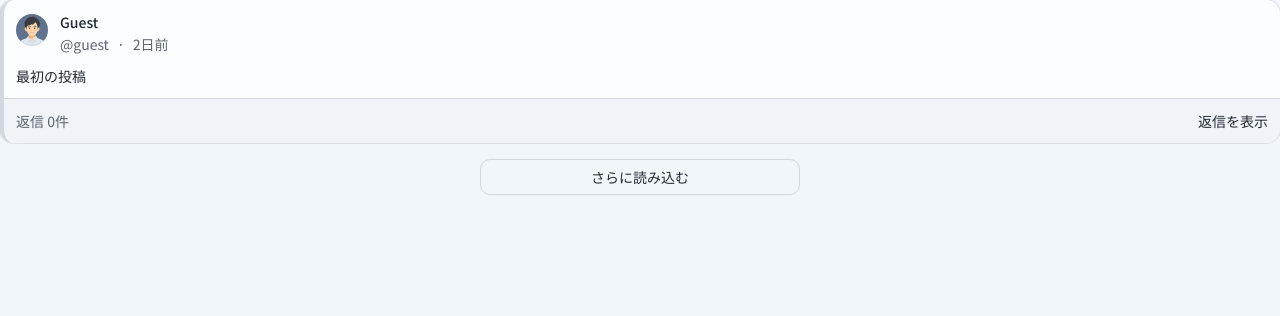
Test: PostList load more › passes the opaque cursor unchanged and appends the next page
Click the button "さらに読み込む": [640, 177] box [480, 159, 800, 195]
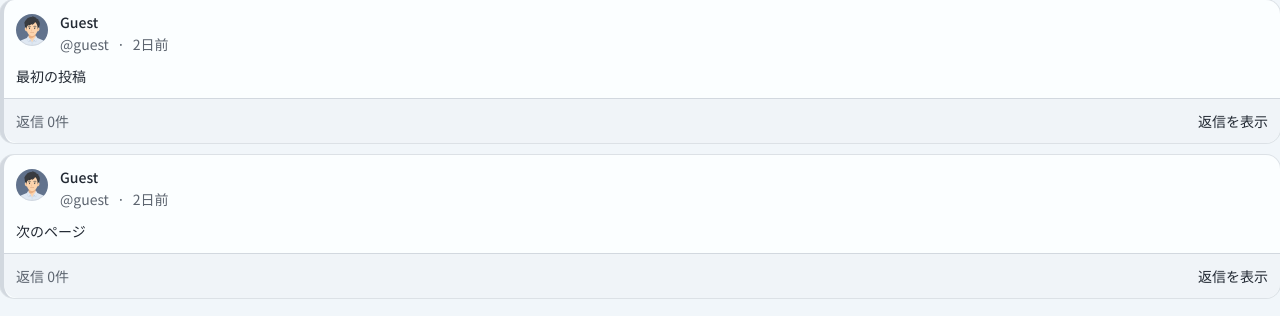
Expected: the text "最初の投稿" is shown, [16, 66, 86, 86]
Now the text "次のページ" is shown, box [16, 221, 86, 241]
Now the button "さらに読み込む" is gone
